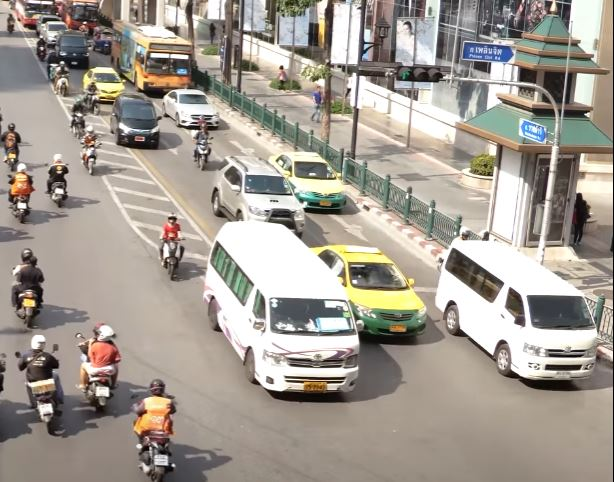Bus: (204, 220, 362, 398), (434, 240, 597, 385), (109, 18, 194, 95)
Car: (307, 243, 430, 343), (210, 155, 306, 240), (267, 153, 347, 212), (111, 94, 160, 151), (162, 89, 219, 132), (85, 66, 126, 102), (55, 32, 90, 70)
Motorcycle: (13, 333, 68, 434), (131, 379, 182, 482), (76, 321, 121, 412), (11, 248, 46, 327), (156, 212, 187, 284), (7, 163, 35, 224), (46, 152, 71, 207), (78, 125, 101, 177), (193, 115, 213, 173), (1, 121, 21, 167), (68, 97, 86, 138), (85, 81, 101, 115)
